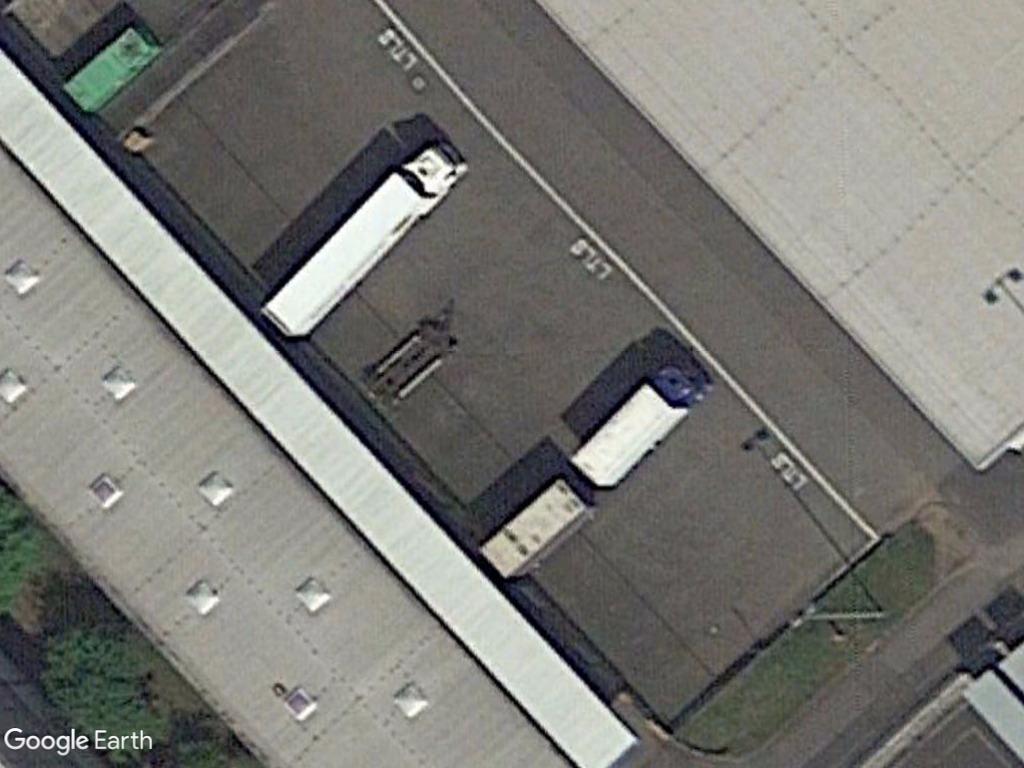longvehicle: (252, 118, 478, 352)
truck: (557, 350, 715, 501)
